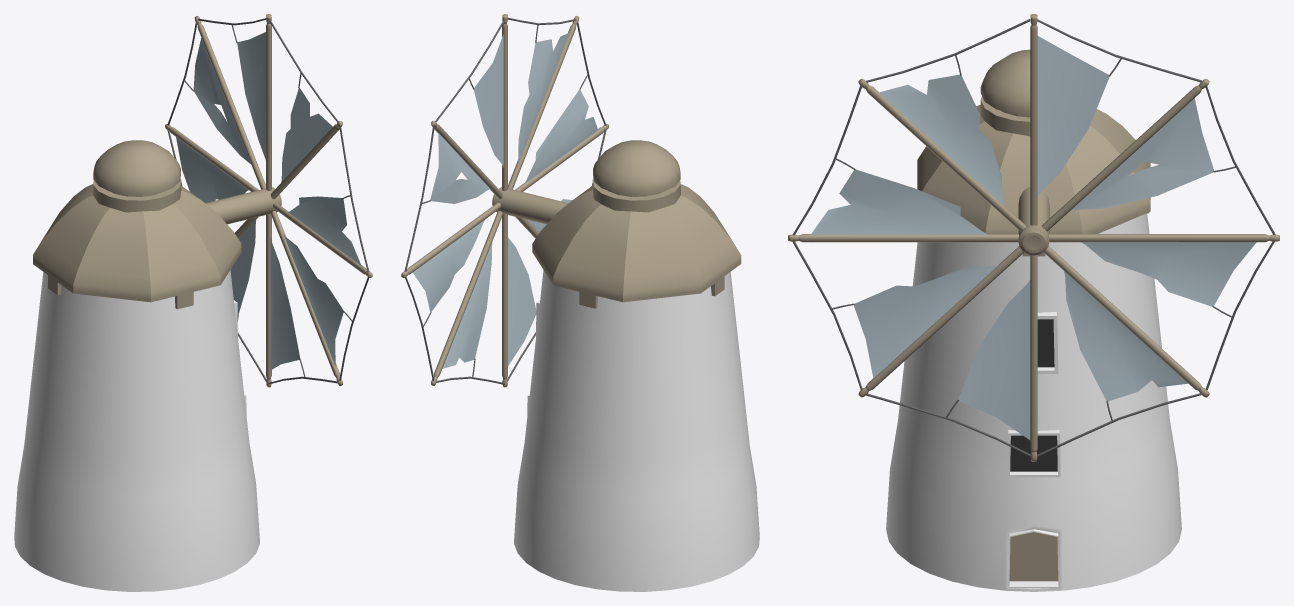
The model's file is MESH_Vista_Windmill.fbx.
3 views of the same model, side by side, from view 1: azimuth 30°, elevation 25°; view 2: azimuth 150°, elevation 25°; view 3: azimuth 270°, elevation 25° (orthographic). The views are drawn at different scales.
Parts seen in each view (by area): view 1: pCylinder1, pCylinder2, pCylinder3, pPlane5, pPlane8, pPlane7, pPlane6, pPlane4, pPlane2, pPlane3, Shaft, pPlane1 (+7 smaller); view 2: pCylinder1, pCylinder2, pCylinder3, pPlane6, pPlane5, pPlane7, pPlane4, pPlane1, pPlane3, pPlane8, Shaft, pCube24 (+6 smaller); view 3: pCylinder1, pCylinder2, pPlane7, pPlane6, pPlane5, pPlane8, pPlane3, pPlane1, pPlane2, pPlane4, pCylinder3, pCube1 (+8 smaller).
Part boxes in pixels (box(x1,y1,x2,y2)): pCylinder1: box(14, 270, 259, 591); pCylinder2: box(33, 184, 241, 302); pCylinder3: box(93, 140, 181, 212); pPlane5: box(270, 237, 300, 370); pPlane8: box(193, 38, 250, 163); pPlane7: box(237, 32, 265, 159); pPlane6: box(288, 196, 361, 265); pPlane4: box(176, 137, 248, 202); pPlane2: box(283, 234, 343, 366); pPlane3: box(281, 87, 332, 181); Shaft: box(205, 187, 281, 224); pPlane1: box(230, 218, 256, 314); pCylinder1: box(514, 270, 759, 591); pCylinder2: box(532, 184, 741, 302); pCylinder3: box(592, 140, 680, 212); pPlane6: box(524, 89, 597, 183); pPlane5: box(508, 237, 536, 365); pPlane7: box(474, 34, 503, 167); pPlane4: box(413, 220, 484, 312); pPlane1: box(442, 242, 492, 368); pPlane3: box(517, 32, 569, 164); pPlane8: box(430, 133, 490, 203); Shaft: box(492, 187, 568, 224); pCube24: box(431, 210, 503, 385); pCylinder1: box(886, 213, 1181, 591); pCylinder2: box(917, 104, 1150, 233); pPlane7: box(1037, 36, 1109, 196); pPlane6: box(811, 169, 987, 234); pPlane5: box(958, 279, 1030, 439); pPlane8: box(1070, 98, 1214, 210); pPlane3: box(879, 74, 1004, 205); pPlane1: box(1064, 271, 1187, 401); pPlane2: box(853, 265, 998, 378); pPlane4: box(1081, 242, 1256, 306); pCylinder3: box(980, 49, 1030, 136); pCube1: box(1049, 234, 1279, 242).
Bounding box in the file's own units: 15.05 × 28.7 × 21.63.
